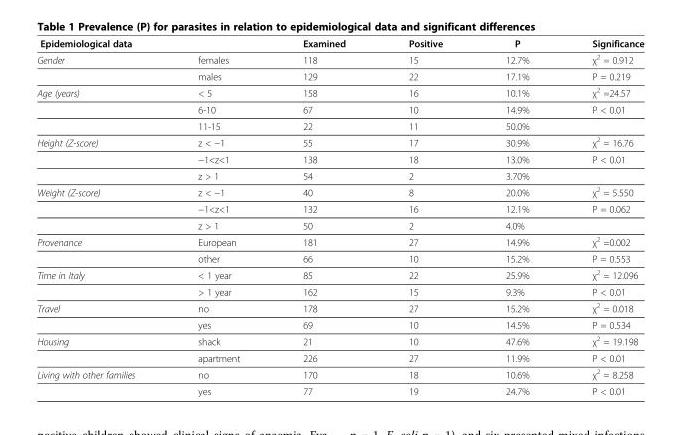table: (36, 37, 643, 396)
table column: (36, 37, 165, 396), (270, 37, 376, 396), (165, 37, 270, 396), (376, 37, 473, 396), (473, 37, 560, 396), (560, 37, 643, 396)
table column header: (36, 37, 643, 50)
table row: (36, 83, 643, 101), (36, 232, 643, 250), (36, 265, 643, 283), (36, 50, 643, 67), (36, 133, 643, 150), (36, 150, 643, 167), (36, 183, 643, 200), (36, 200, 643, 217), (36, 299, 643, 316), (36, 332, 643, 349), (36, 365, 643, 382), (36, 67, 643, 83), (36, 101, 643, 117), (36, 117, 643, 133), (36, 167, 643, 183), (36, 283, 643, 299), (36, 316, 643, 332), (36, 349, 643, 365), (36, 217, 643, 232), (36, 250, 643, 265), (36, 382, 643, 396), (36, 37, 643, 50)
table spanning cell: (36, 83, 165, 133), (36, 133, 165, 183), (36, 183, 165, 232), (36, 265, 165, 299), (36, 50, 165, 83), (36, 232, 165, 265), (36, 299, 165, 332), (36, 332, 165, 365), (36, 365, 165, 396)
